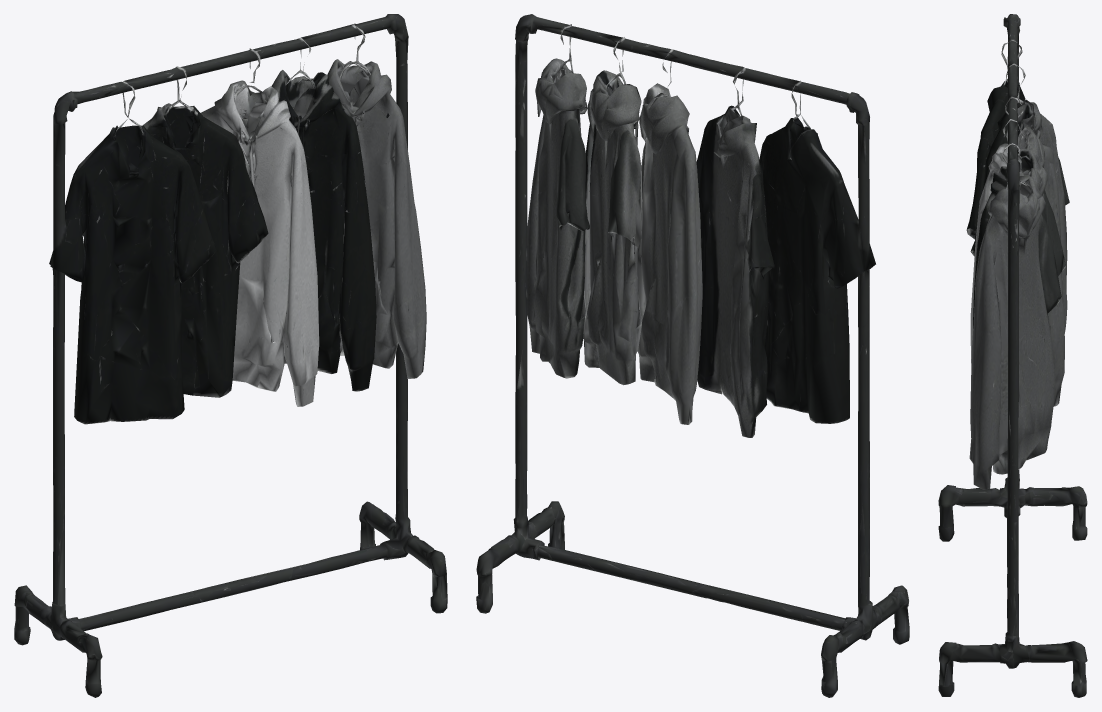
Rendered from desktop.glb.
3 renders of one model, left to right at view 1: azimuth 30°, elevation 25°; view 2: azimuth 150°, elevation 25°; view 3: azimuth 270°, elevation 25°, orthographic. The views are drawn at different scales.
Parts seen in each view (by area): view 1: d-clothesrack; view 2: d-clothesrack; view 3: d-clothesrack.
Boxes of the visible parts, left/top/right/bottom form: d-clothesrack: left=14, top=14, right=447, bottom=697; d-clothesrack: left=476, top=14, right=909, bottom=697; d-clothesrack: left=938, top=14, right=1087, bottom=697.
Size of the model in its own units: 0.9975 by 1.52 by 0.3865.
Materials: 1 (1 with a texture image).
